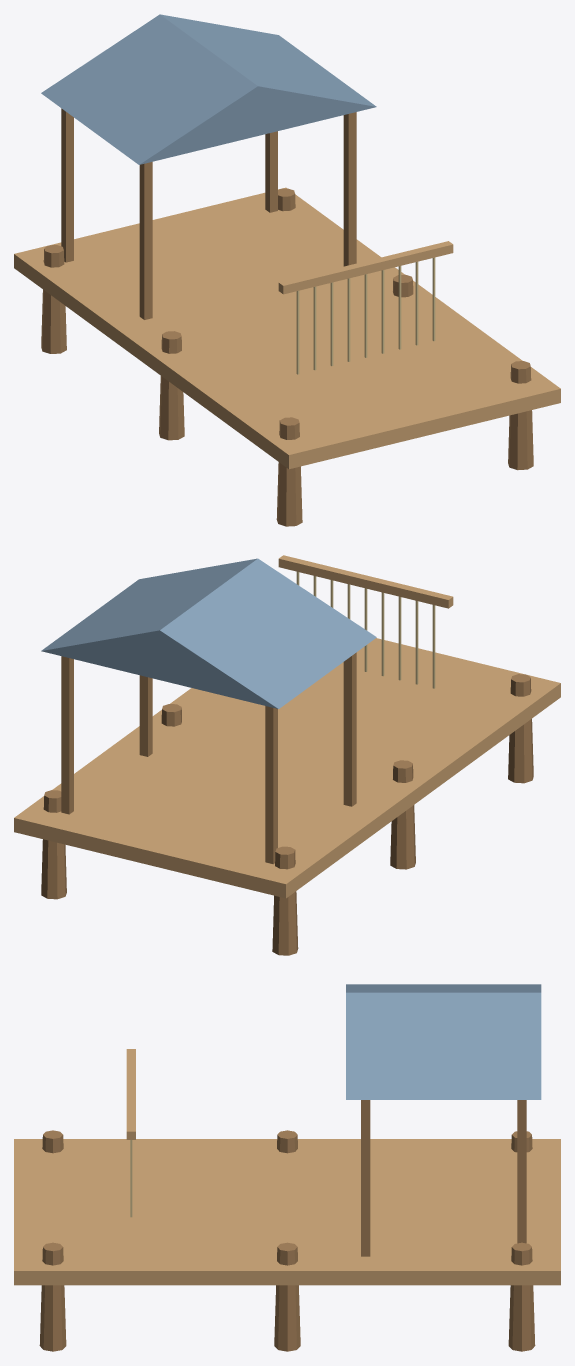
The model's file is fishing-dock.glb.
3 renders of one model, top to bottom at view 1: azimuth 30°, elevation 25°; view 2: azimuth 150°, elevation 25°; view 3: azimuth 270°, elevation 25°, orthographic.
Parts seen in each view (by area): view 1: fishing-dock; view 2: fishing-dock; view 3: fishing-dock.
Part boxes in pixels (bbox=[...]): fishing-dock: bbox=[14, 14, 560, 526]; fishing-dock: bbox=[14, 555, 560, 955]; fishing-dock: bbox=[14, 984, 560, 1351].
Size of the model in its own units: 4 by 4.2 by 7.
